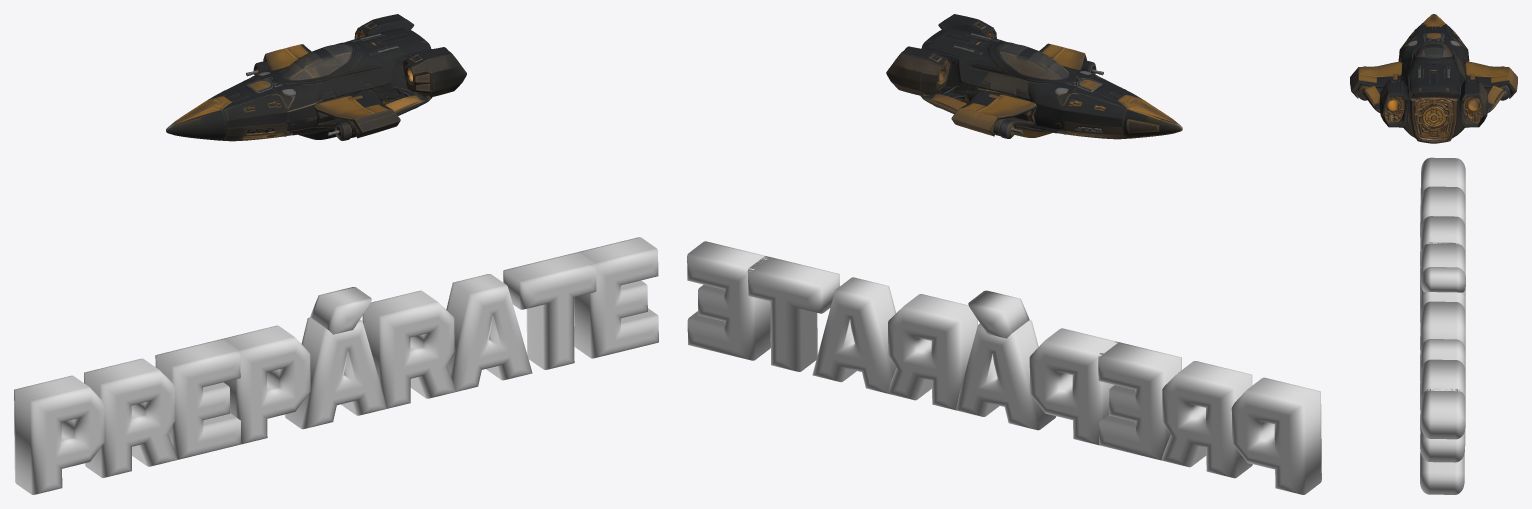
File: escenario1.glb
3 renders of one model, left to right at view 1: azimuth 30°, elevation 25°; view 2: azimuth 150°, elevation 25°; view 3: azimuth 270°, elevation 25°, orthographic. The views are drawn at different scales.
Visible parts, largest first — view 1: Texto, mesh_node; view 2: Texto, mesh_node; view 3: Texto, mesh_node.
Part boxes in pixels (x1,y1,x2,y2): Texto: (14, 237, 658, 494); mesh_node: (166, 14, 466, 141); Texto: (687, 241, 1321, 494); mesh_node: (886, 14, 1182, 139); Texto: (1420, 157, 1465, 494); mesh_node: (1350, 14, 1517, 143).
Bounding box in the file's own units: 4.39 × 2.48 × 1.21.
Materials: 1 (1 with a texture image).
